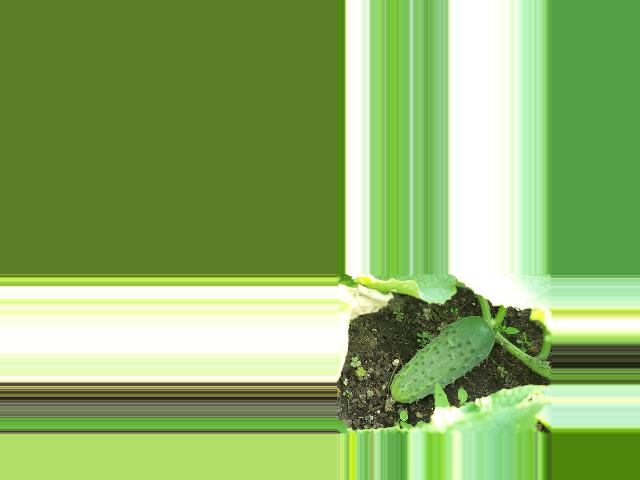cucumber: (390, 315, 496, 403)
